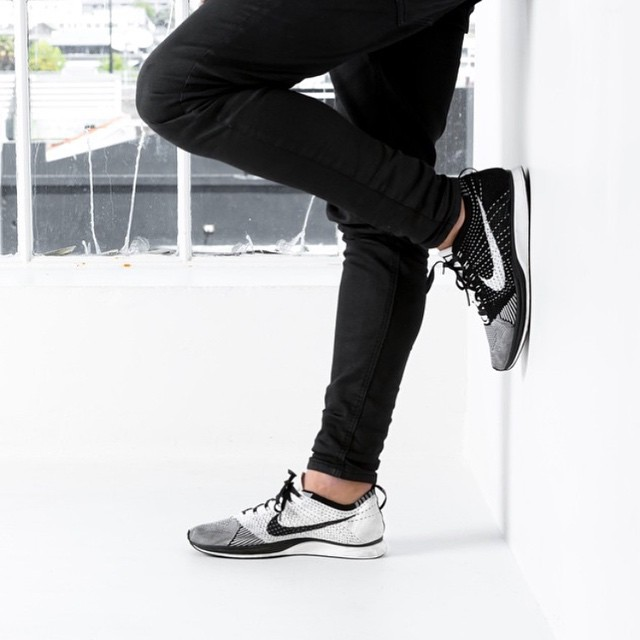sneaker: (426, 147, 556, 387), (172, 456, 407, 573)
